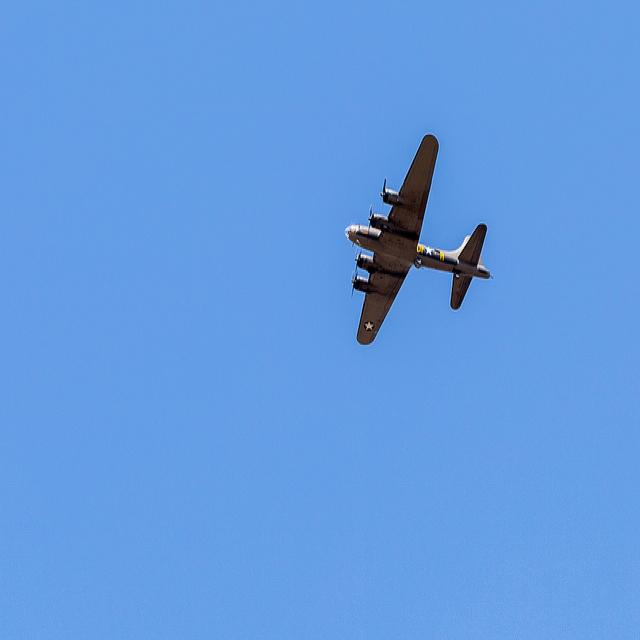airplane: (342, 132, 496, 348)
